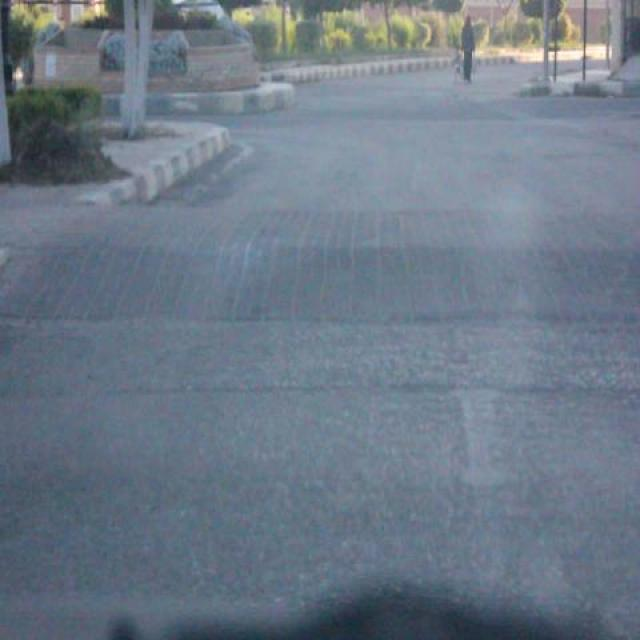Unmarked Bump: (0, 205, 639, 332)
